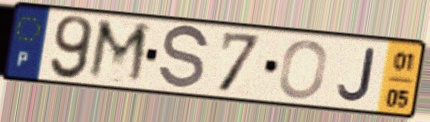7: (217, 28, 265, 95)
9: (49, 14, 95, 82)
J: (335, 46, 377, 104)
M: (84, 16, 154, 88)
O: (276, 38, 330, 101)
S: (155, 23, 212, 94)
